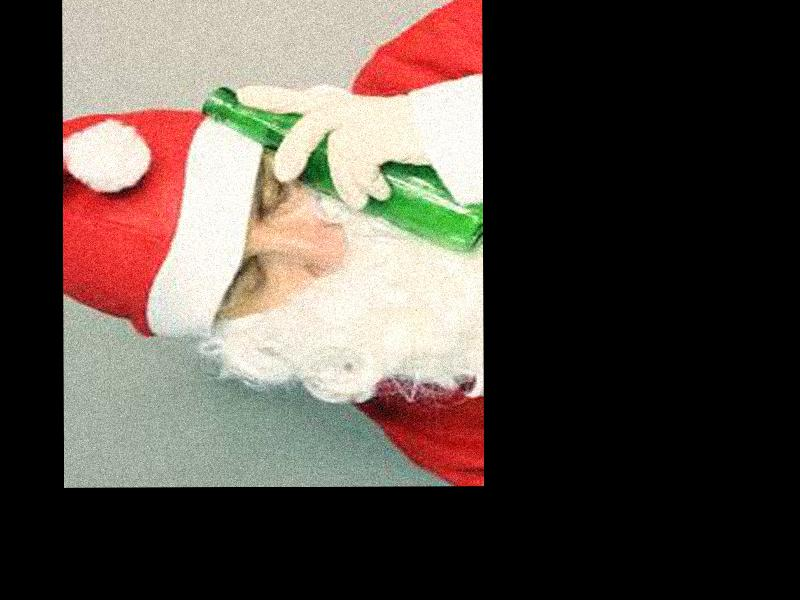Beer: (205, 84, 483, 249)
